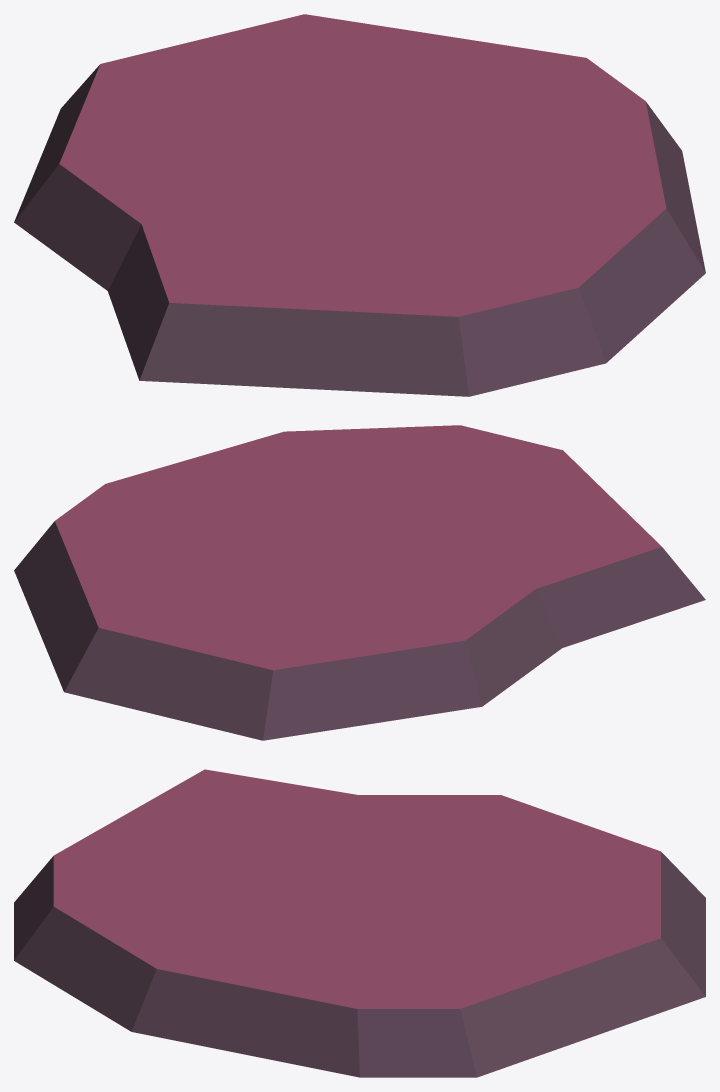
The model's file is Rock021.fbx.
The picture shows the model from 3 angles, top to bottom: view 1: azimuth 30°, elevation 25°; view 2: azimuth 150°, elevation 25°; view 3: azimuth 270°, elevation 25°; orthographic projection. The views are drawn at different scales.
Parts seen in each view (by area): view 1: Rock021; view 2: Rock021; view 3: Rock021.
Boxes of the visible parts, x1=… form: Rock021: x1=14, y1=14, x2=705, y2=396; Rock021: x1=14, y1=425, x2=705, y2=740; Rock021: x1=14, y1=769, x2=705, y2=1077.
Bounding box in the file's own units: 125 × 11.23 × 134.
